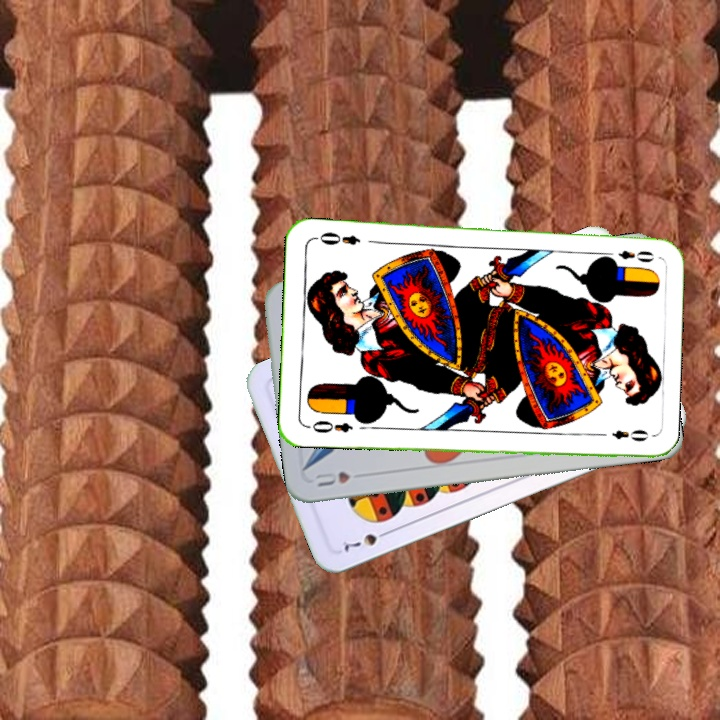EO: (600, 246, 656, 266), (303, 417, 355, 436)
HU: (311, 467, 353, 489)
S7: (337, 526, 394, 554)
